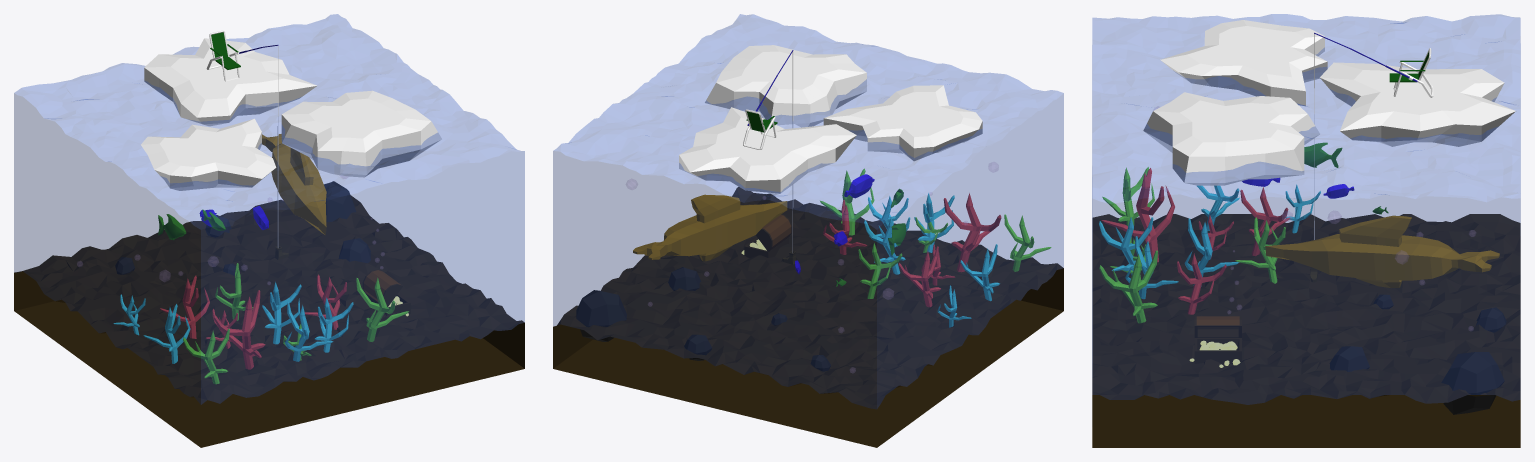
File: underwater_cornucopia_of_treasures.glb
3 renders of one model, left to right at view 1: azimuth 30°, elevation 25°; view 2: azimuth 150°, elevation 25°; view 3: azimuth 270°, elevation 25°, orthographic. The views are drawn at different scales.
Visible parts, largest first — view 1: Plane.004, Plane.003, Plane.001, Plane.002, Plane, Cube.050, Coral 1.012_0 (×3), Coral 1.007_0 (×2), Coral 1.011_0 (×2), Cube.032, Cube.003, Coral 1.011 (+3 smaller); view 2: Plane.004, Plane.003, Plane.001, Plane.002, Plane, Cube.050, Coral 1.007_0 (×2), Coral 1.012_0 (×3), Cube.032, Coral 1.011_0 (×2), Cube.003, Coral 1.011 (+2 smaller); view 3: Plane.004, Plane.003, Plane.001, Plane.002, Plane, Cube.050, Coral 1.012_0 (×4), Cube.032, Coral 1.007_0 (×2), Coral 1.011_0 (×2), Cube.003, Cube.002 (+6 smaller).
Boxes of the visible parts, x1,y1,x2,y2 form: Plane.004: [14, 14, 524, 404]; Plane.003: [14, 272, 524, 447]; Plane.001: [281, 90, 441, 177]; Plane.002: [144, 38, 317, 126]; Plane: [141, 118, 276, 190]; Cube.050: [262, 134, 326, 235]; Coral 1.012_0 (×3): [143, 282, 333, 363]; Coral 1.007_0 (×2): [160, 275, 265, 369]; Coral 1.011_0 (×2): [215, 263, 408, 341]; Cube.032: [324, 181, 355, 221]; Cube.003: [362, 269, 402, 306]; Coral 1.011: [183, 329, 229, 384]; Plane.004: [553, 14, 1063, 409]; Plane.003: [553, 268, 1063, 447]; Plane.001: [705, 45, 866, 127]; Plane.002: [679, 107, 856, 195]; Plane: [823, 85, 982, 160]; Cube.050: [633, 194, 787, 261]; Coral 1.007_0 (×2): [898, 193, 1001, 307]; Coral 1.012_0 (×3): [864, 193, 999, 300]; Cube.032: [576, 290, 626, 341]; Coral 1.011_0 (×2): [820, 168, 902, 298]; Cube.003: [756, 214, 792, 251]; Coral 1.011: [1004, 214, 1051, 271]; Plane.004: [1092, 14, 1520, 404]; Plane.003: [1092, 237, 1520, 447]; Plane.001: [1143, 92, 1319, 185]; Plane.002: [1320, 62, 1515, 146]; Plane: [1160, 20, 1327, 105]; Cube.050: [1265, 215, 1499, 287]; Coral 1.012_0 (×4): [1099, 184, 1320, 285]; Cube.032: [1441, 352, 1504, 414]; Coral 1.007_0 (×2): [1101, 168, 1289, 262]; Coral 1.011_0 (×2): [1099, 217, 1285, 323]; Cube.003: [1194, 316, 1241, 337]; Cube.002: [1194, 338, 1241, 363].
Bounding box in the file's own units: 3.34 × 2.86 × 3.34.
